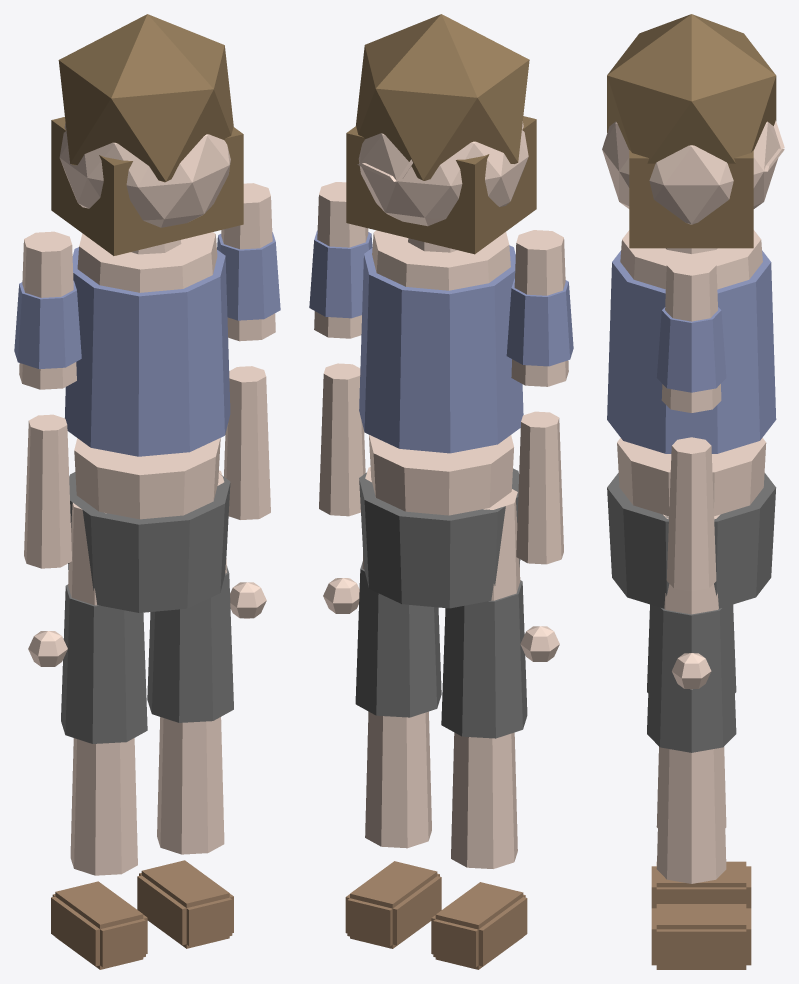
The picture shows the model from 3 angles, left to right: view 1: azimuth 30°, elevation 25°; view 2: azimuth 150°, elevation 25°; view 3: azimuth 270°, elevation 25°; orthographic projection.
Parts seen in each view (by area): view 1: Body, Pants, Tunic, Hair, Boots; view 2: Body, Tunic, Pants, Hair, Boots; view 3: Body, Hair, Tunic, Pants, Boots.
Boxes of the visible parts, x1,y1,x2,y2 form: Body: (19,122,275,875); Pants: (61,472,233,743); Tunic: (14,232,280,456); Hair: (51,14,243,255); Boots: (51,860,233,969); Body: (314,121,568,868); Tunic: (309,230,573,453); Pants: (355,468,527,738); Hair: (346,14,536,254); Boots: (345,861,527,969); Body: (602,120,784,883); Hair: (607,14,776,248); Tunic: (607,250,776,453); Pants: (607,473,776,752); Boots: (651,861,751,969).
Bounding box in the file's own units: 0.6 × 2.05 × 0.3675.
